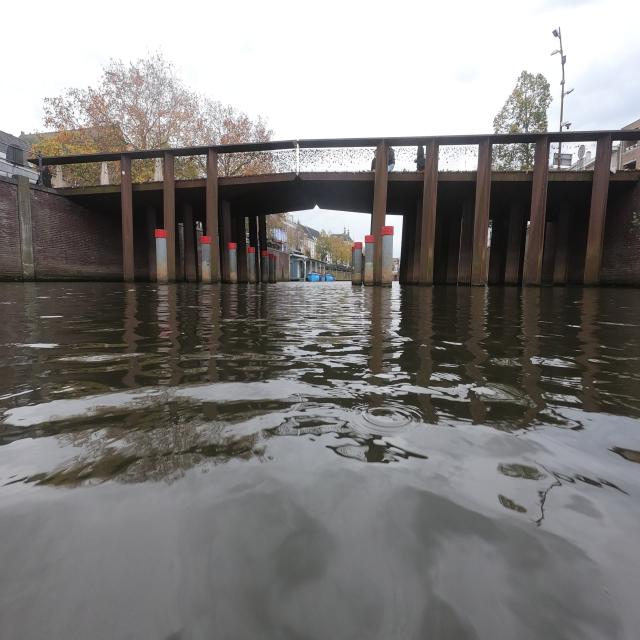boat: (0, 20, 92, 99), (38, 20, 112, 99), (306, 273, 320, 281)
sky: (12, 6, 608, 132)
wall: (2, 128, 124, 280), (541, 196, 590, 285), (599, 181, 640, 286)
water: (8, 286, 636, 632)
